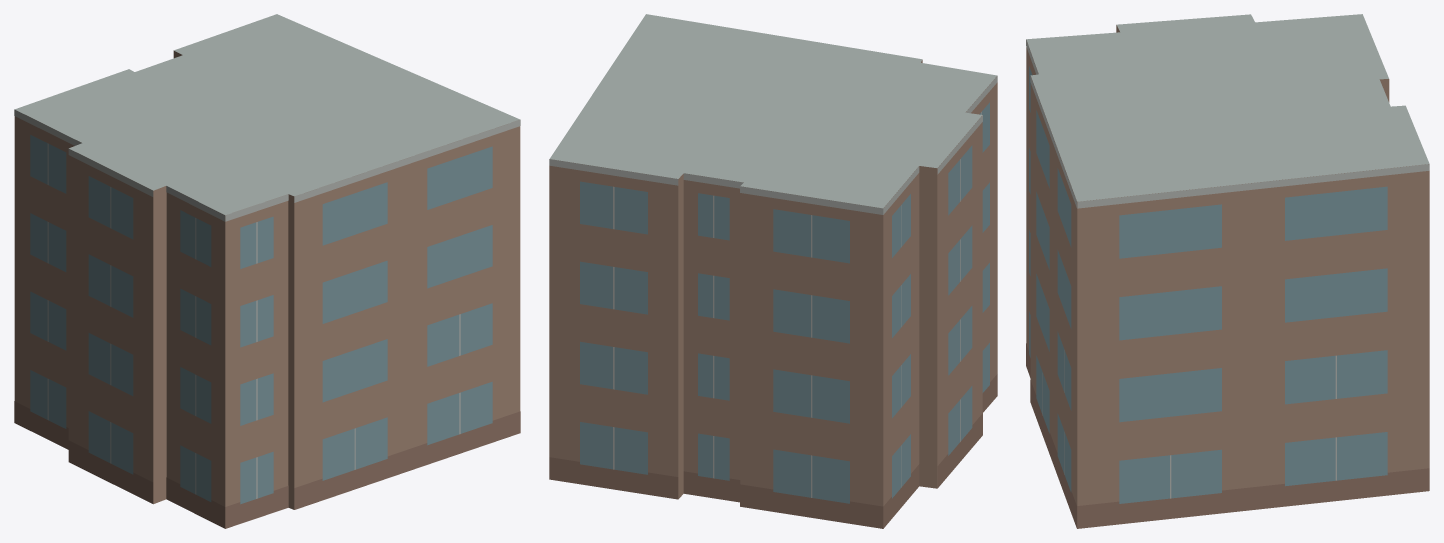
File: survey-upis-33037753.glb
The picture shows the model from 3 angles, left to right: view 1: azimuth 30°, elevation 25°; view 2: azimuth 150°, elevation 25°; view 3: azimuth 270°, elevation 25°; orthographic projection. The views are drawn at different scales.
Visible parts, largest first — view 1: survey-upis-33037753.tmp; view 2: survey-upis-33037753.tmp; view 3: survey-upis-33037753.tmp.
Part boxes in pixels (x1,y1,x2,y2): survey-upis-33037753.tmp: (14,14,520,528); survey-upis-33037753.tmp: (549,14,997,528); survey-upis-33037753.tmp: (1026,14,1429,528).
Size of the model in its own units: 14.42 by 11.7 by 13.09.
